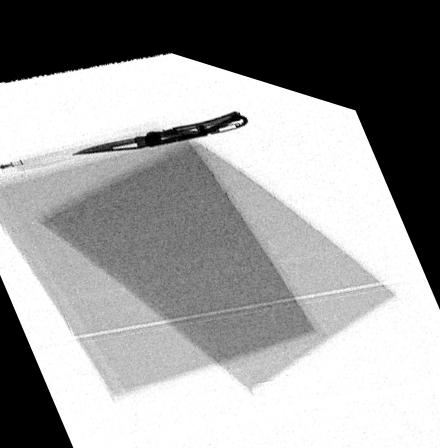Knife: (72, 95, 248, 151)
